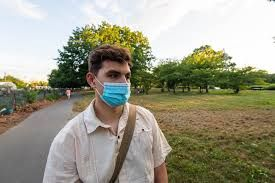with-mask: (86, 51, 139, 110)
